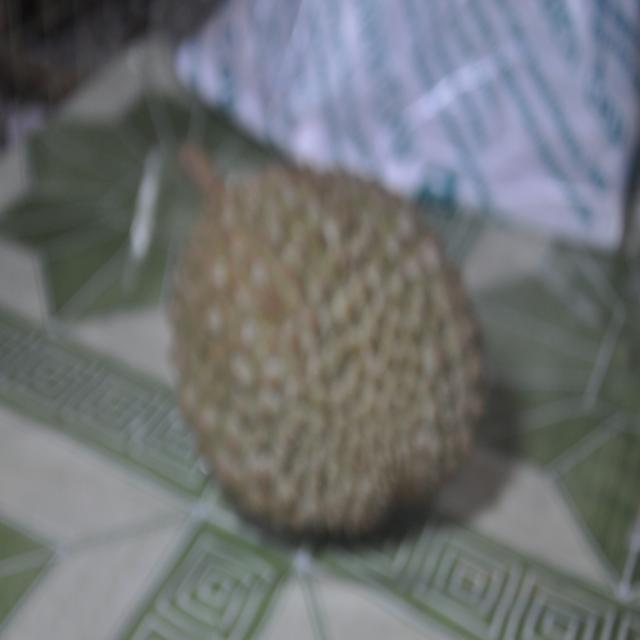mature: (171, 145, 484, 536)
